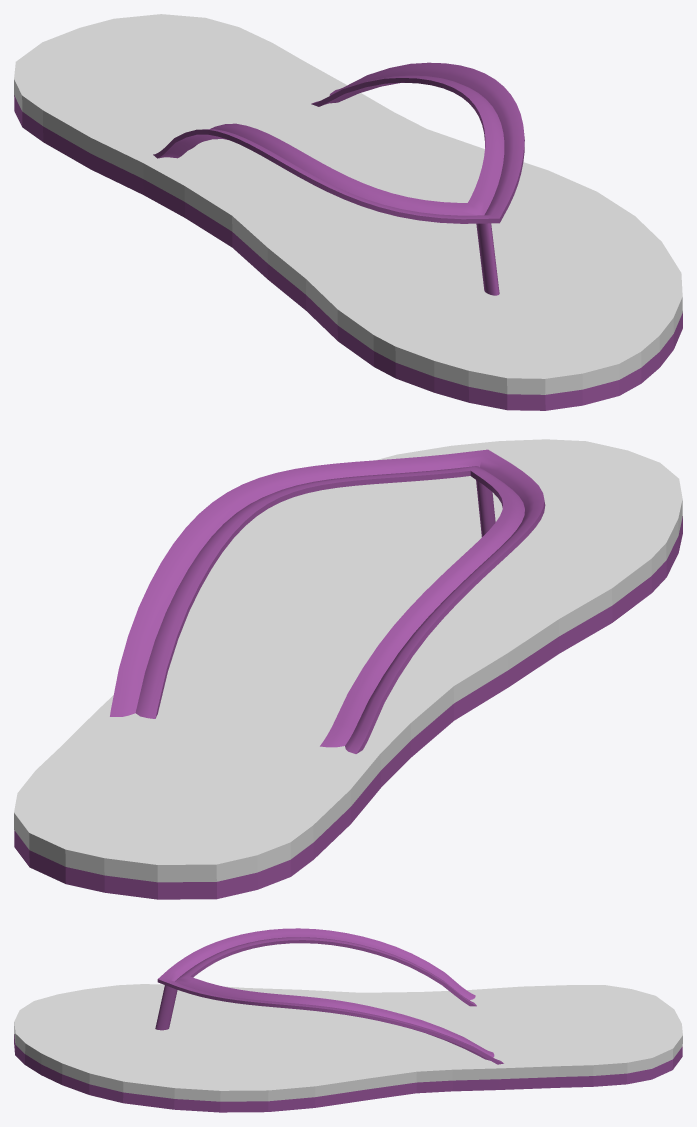
The model's file is sendalpink.fbx.
The picture shows the model from 3 angles, top to bottom: view 1: azimuth 30°, elevation 25°; view 2: azimuth 150°, elevation 25°; view 3: azimuth 270°, elevation 25°; orthographic projection. The views are drawn at different scales.
Parts seen in each view (by area): view 1: Chancletas OBJ; view 2: Chancletas OBJ; view 3: Chancletas OBJ.
Part boxes in pixels (bbox=[...]): Chancletas OBJ: bbox=[14, 14, 682, 410]; Chancletas OBJ: bbox=[14, 439, 682, 899]; Chancletas OBJ: bbox=[14, 928, 682, 1112].
Bounding box in the file's own units: 173 × 66.48 × 447.
